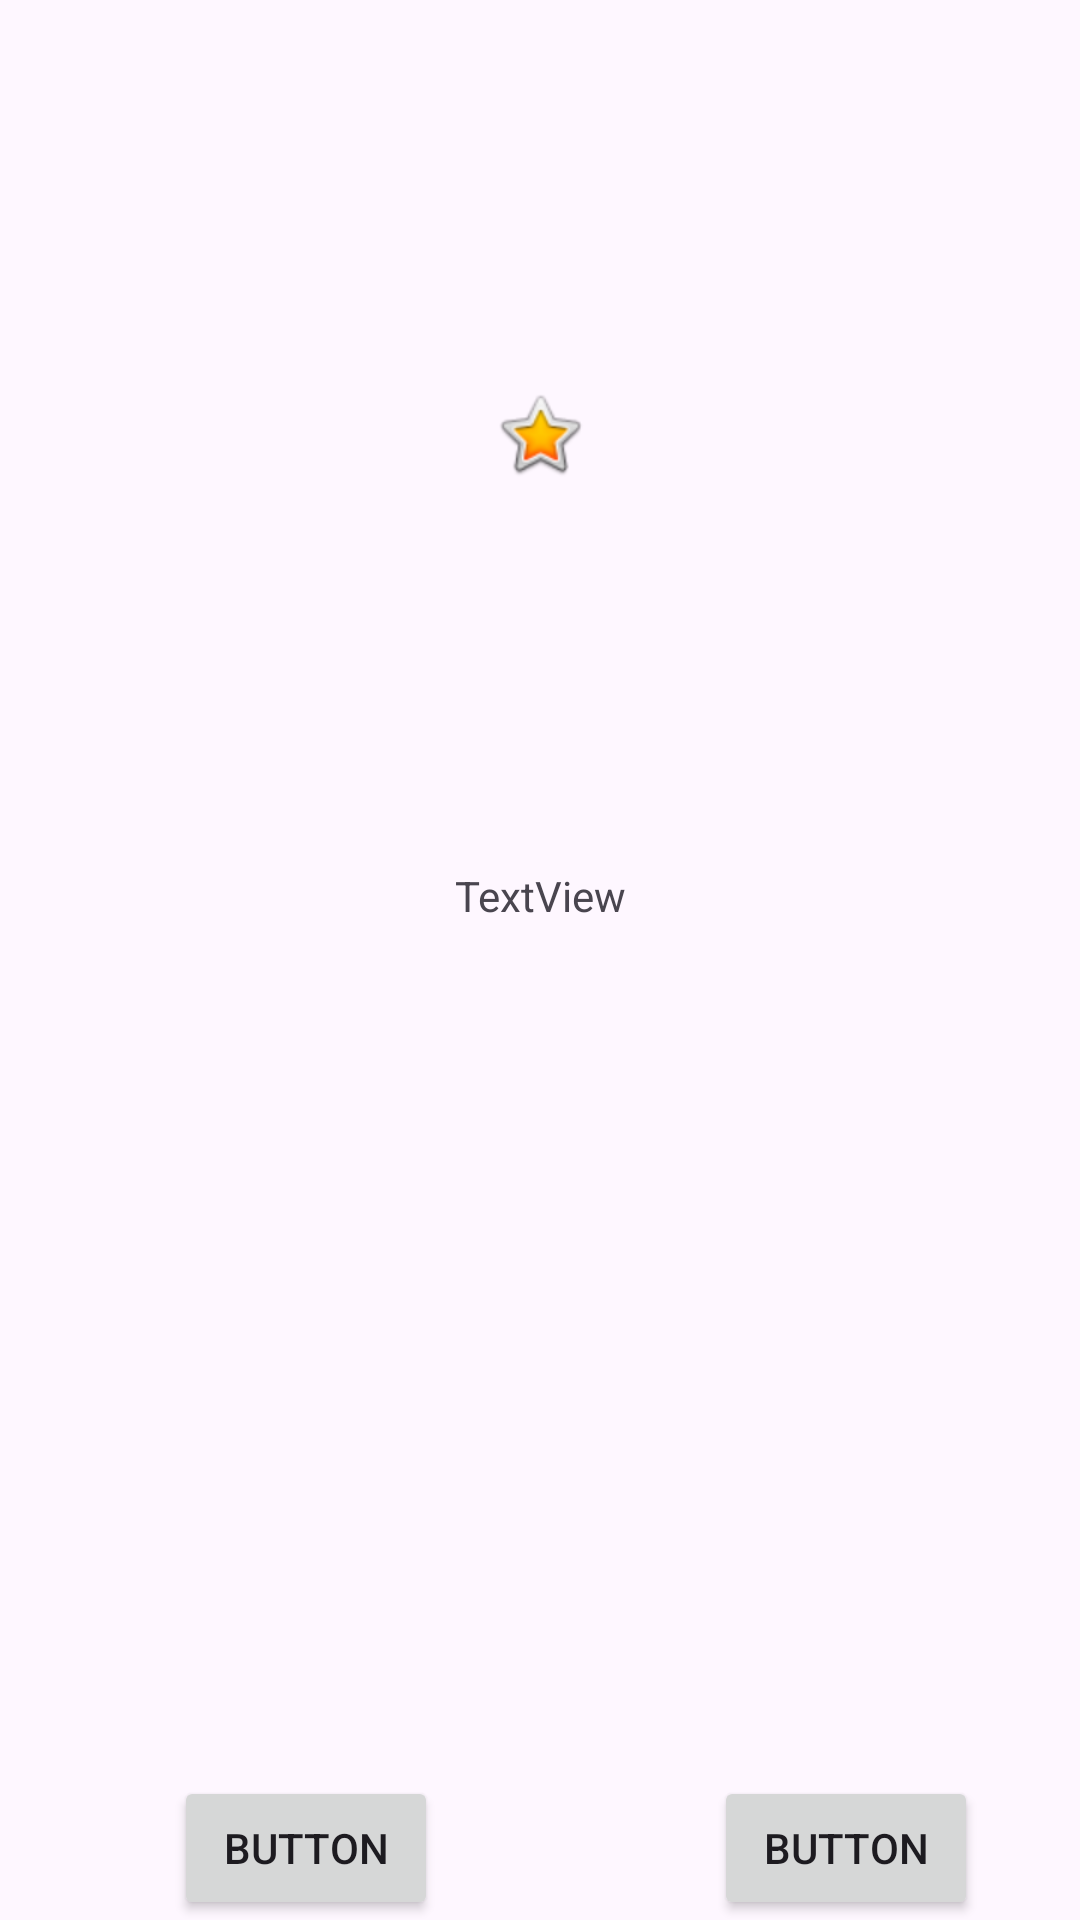

Icons on this 1080px x 1920px Android screen, each with its box as (left=x1, top=y1, right=x2, bottom=y2):
star on: (left=501, top=396, right=581, bottom=474)
